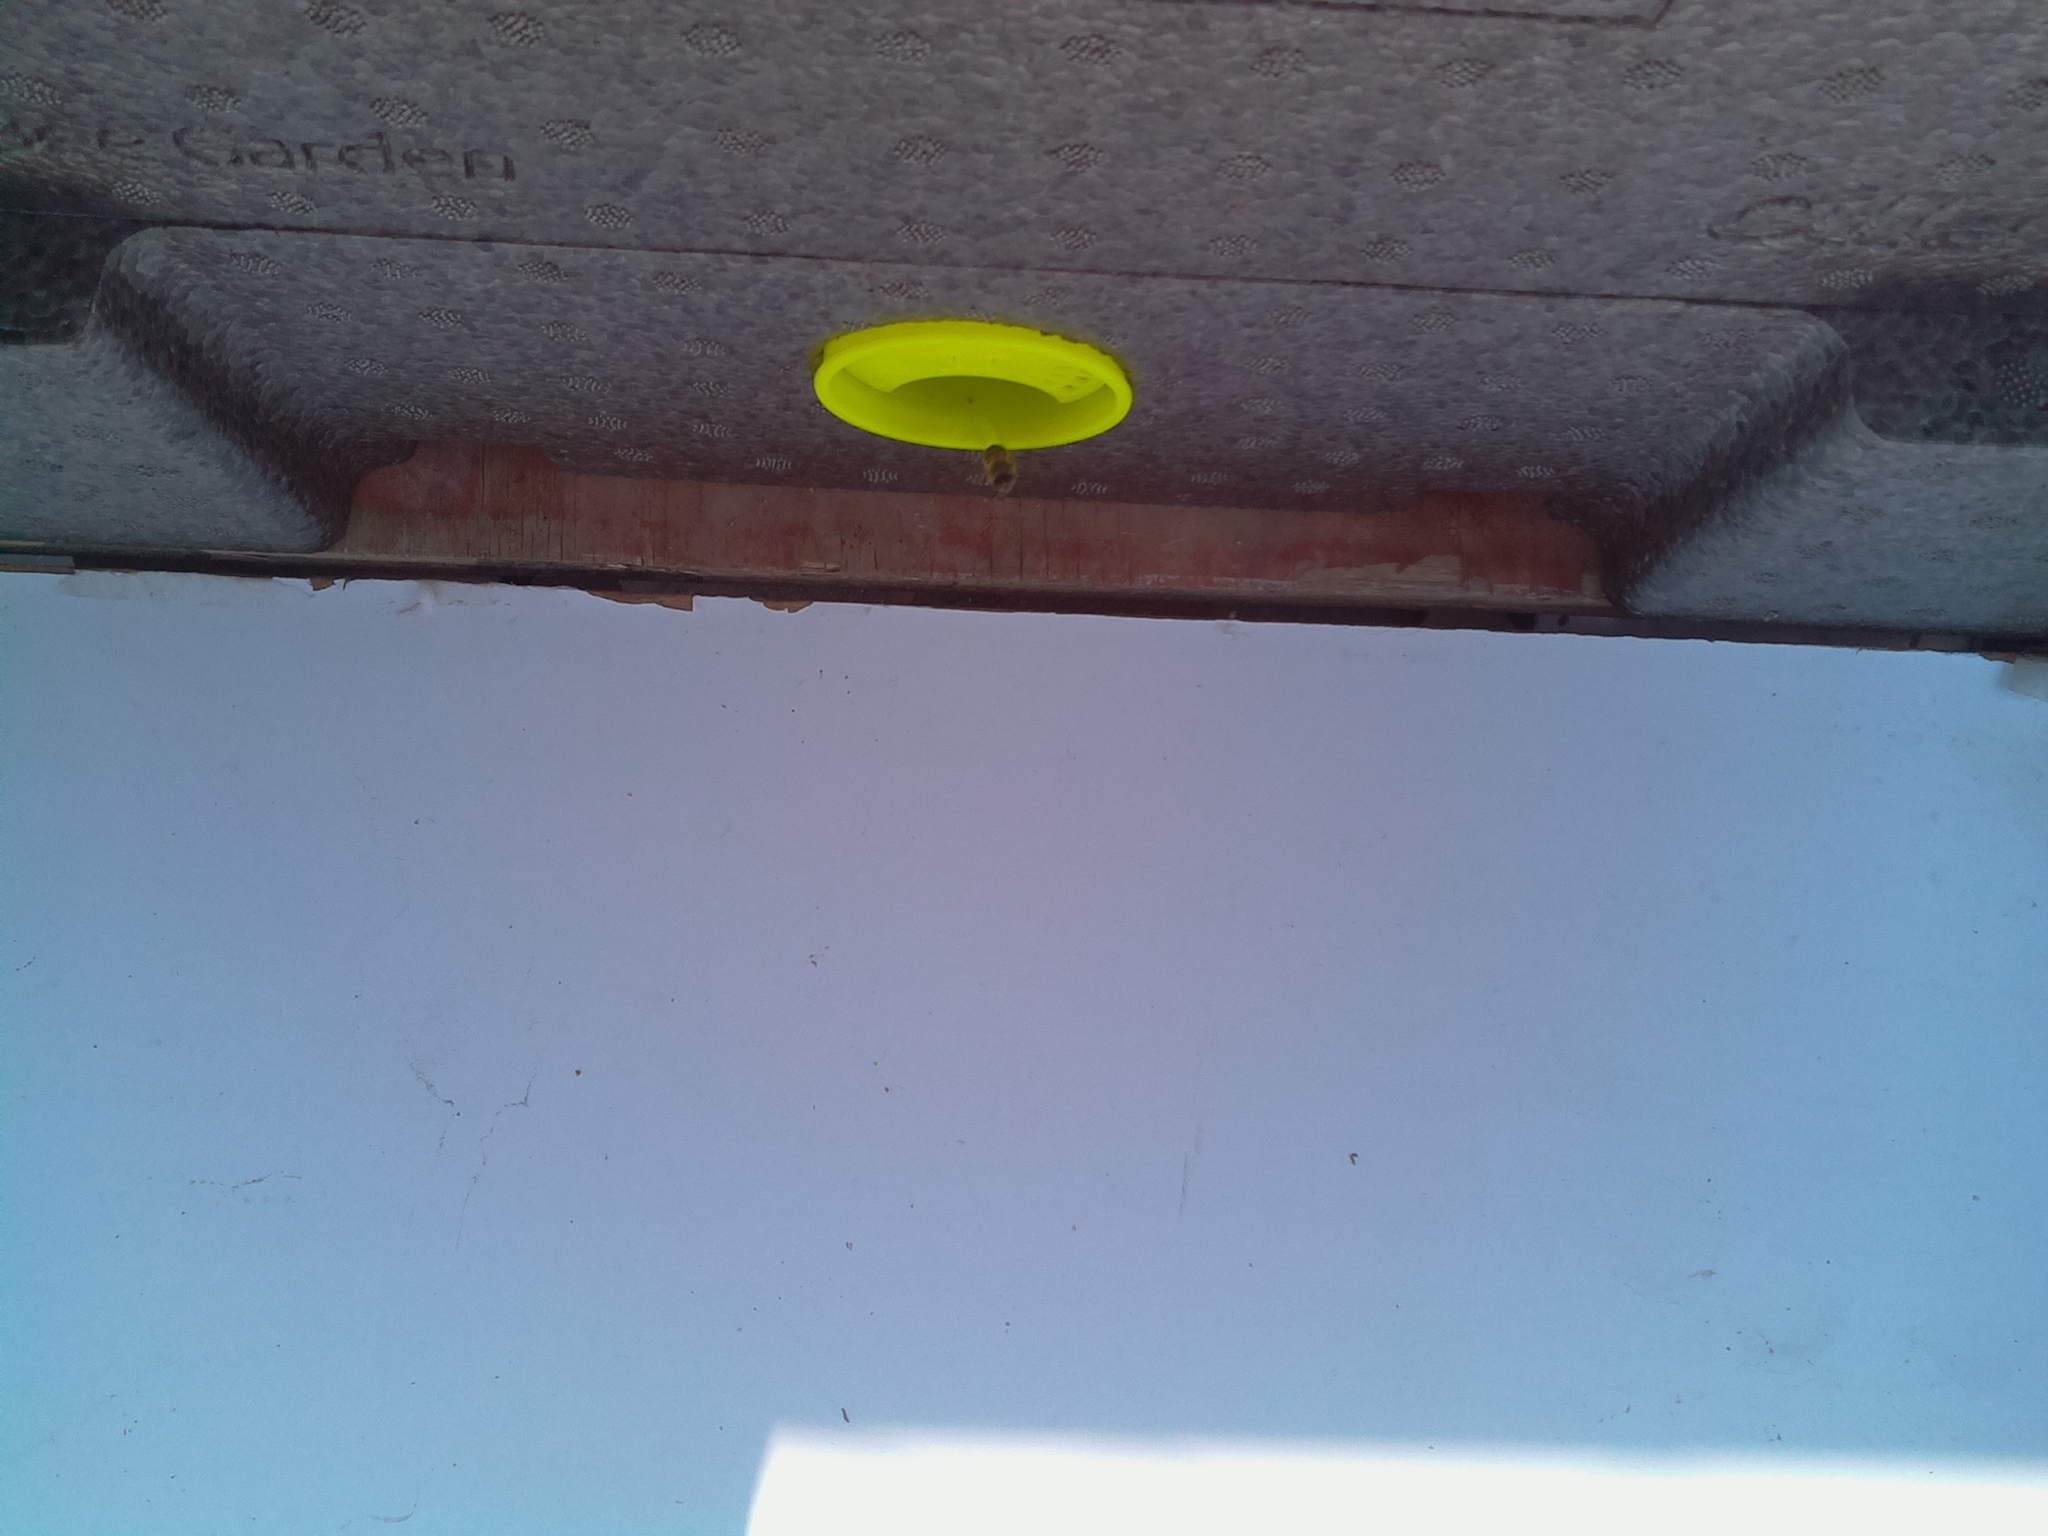bee: (978, 442, 1018, 495)
